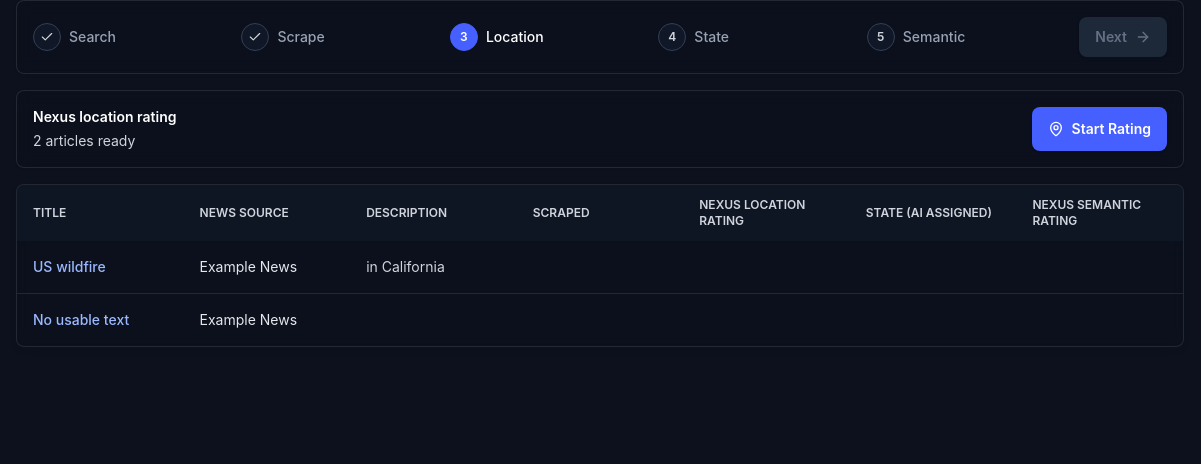
Test: LocationBar › shows a worker error message when the job fails to start
Click the button "Start Rating" at (1099, 129), box left=1032, top=107, right=1167, bottom=151
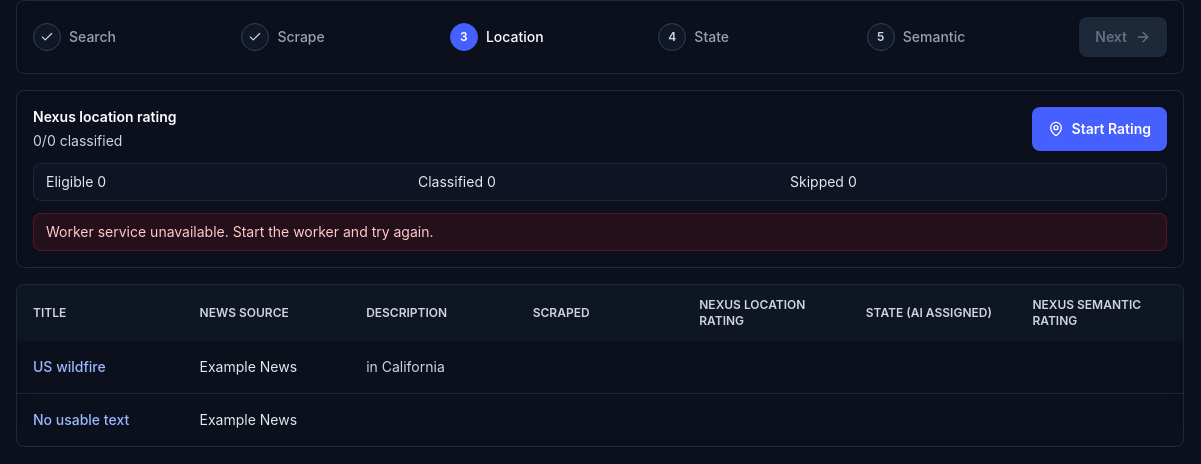
Check: the message "Worker service unavailable. Start the worker and try again." is shown, box left=33, top=213, right=1167, bottom=251
